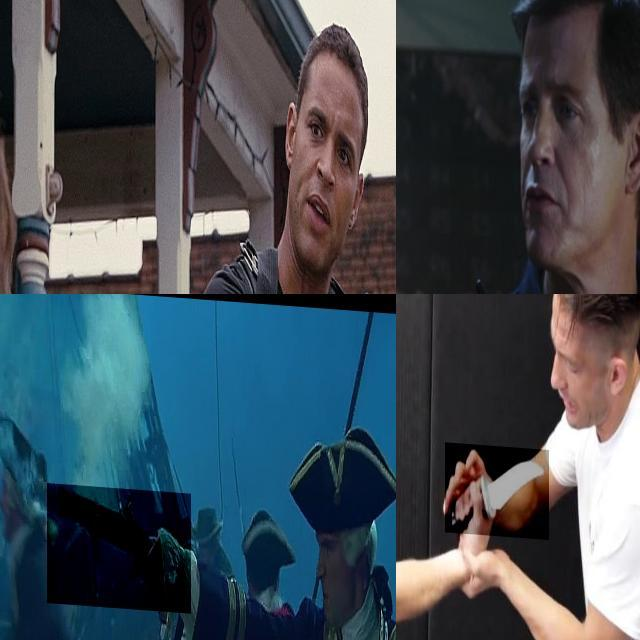-: (445, 437, 549, 532)
gun-knife-thesis - v11 Yolov5 augmented: (47, 481, 191, 609)
